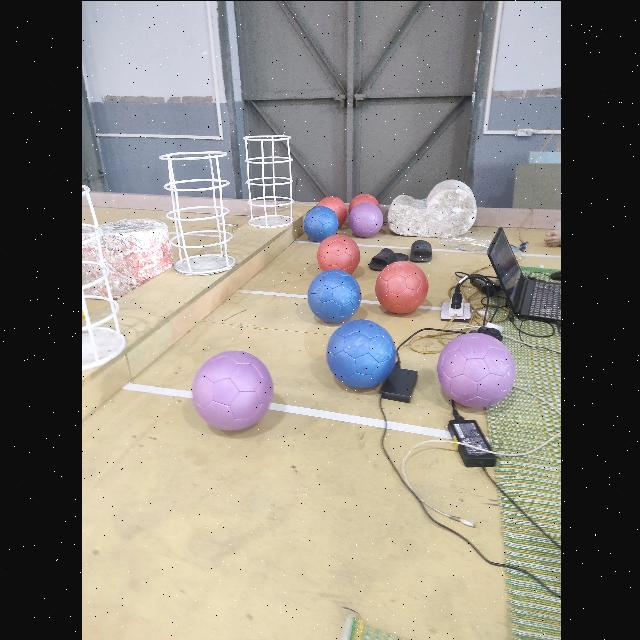B: (325, 319, 395, 387), (306, 268, 359, 322), (302, 204, 336, 242)
P: (191, 349, 271, 429), (436, 332, 514, 406), (346, 202, 382, 236)
R: (374, 260, 426, 312), (316, 234, 358, 272), (318, 195, 347, 225), (347, 192, 377, 210)
S: (156, 148, 242, 280), (80, 182, 124, 372), (236, 132, 298, 232)
